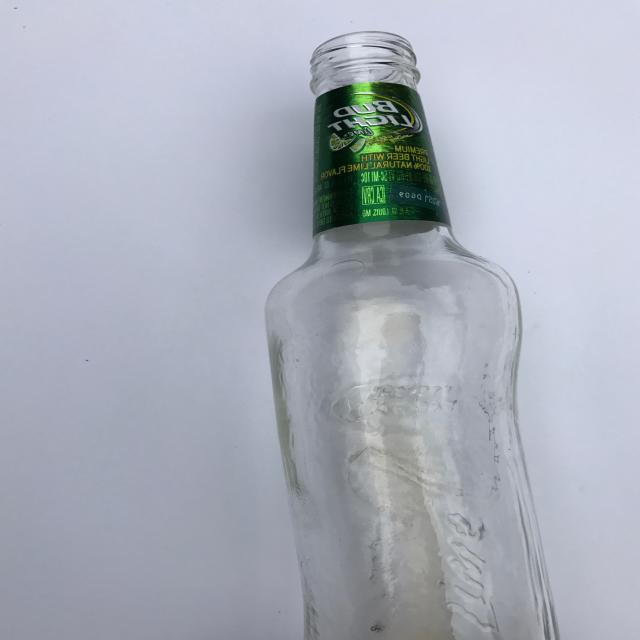glass: (264, 30, 564, 640)
